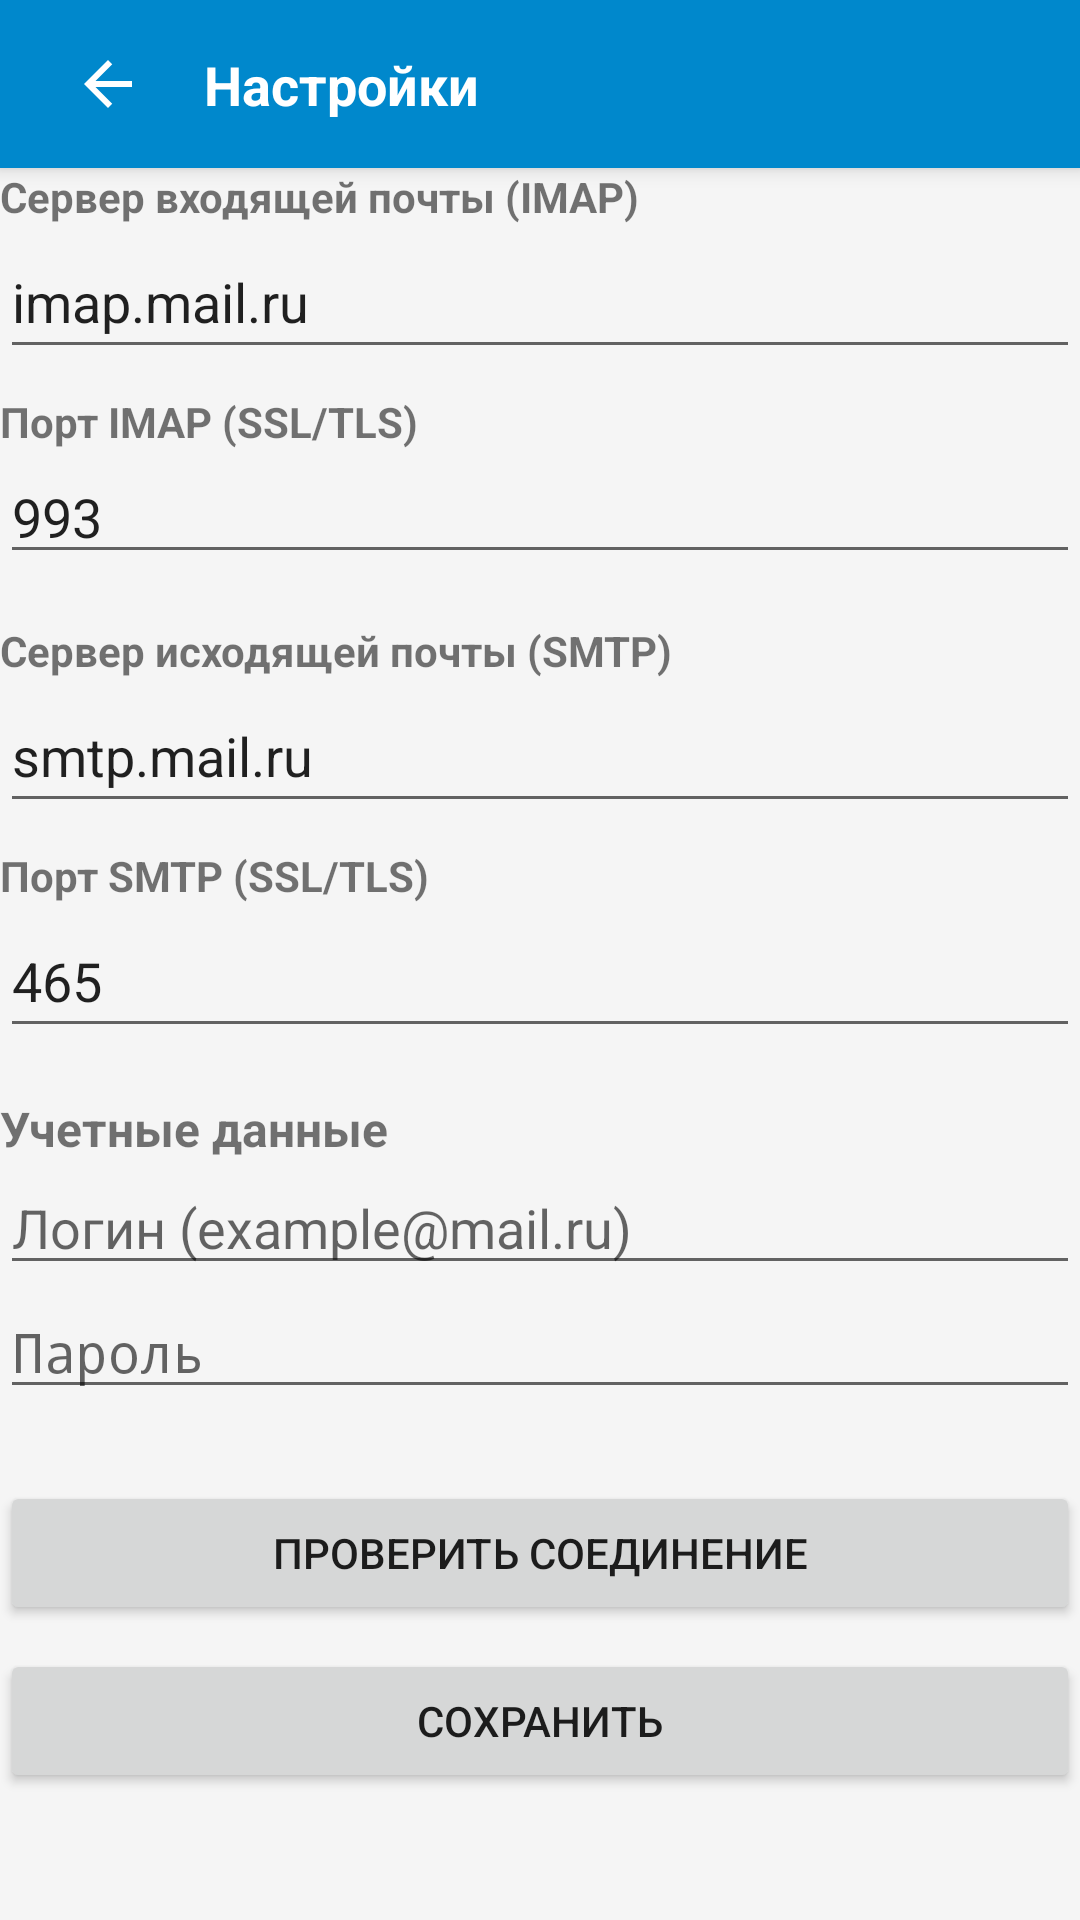

Locate icon controls on the screen. Image size 1080 x 1920, boxes as (x1, y1, x2, y2).
Назад: (84, 60, 132, 108)
